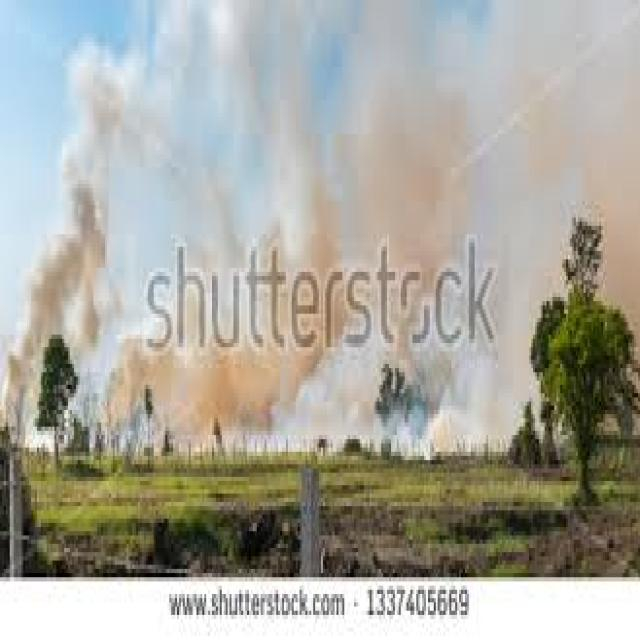Smoke: (0, 62, 129, 441), (262, 86, 499, 252), (112, 347, 316, 413), (340, 400, 506, 452)
